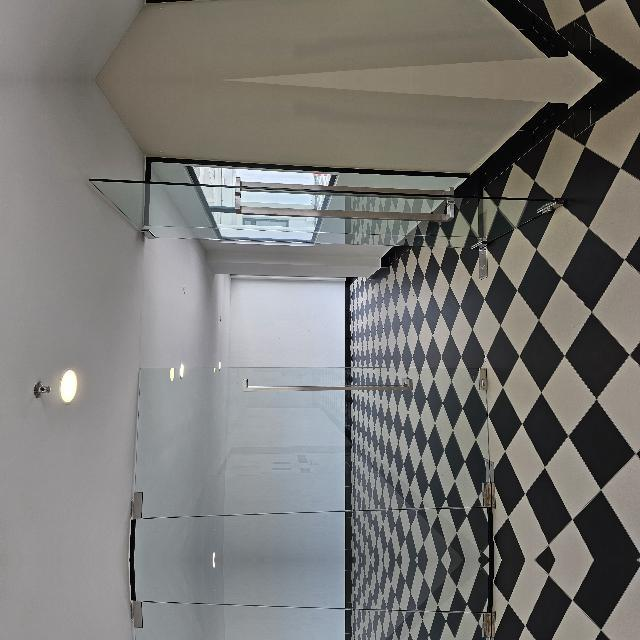obstacle: (35, 206, 202, 570), (318, 167, 398, 640), (34, 550, 201, 640), (318, 471, 398, 640)
